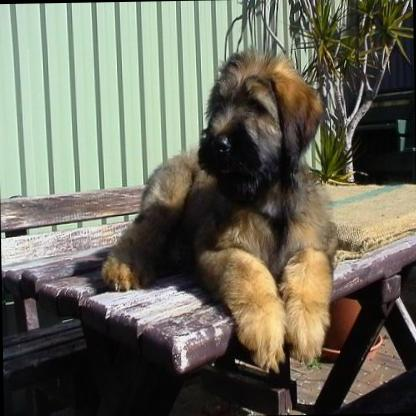briard: (92, 39, 340, 377)
